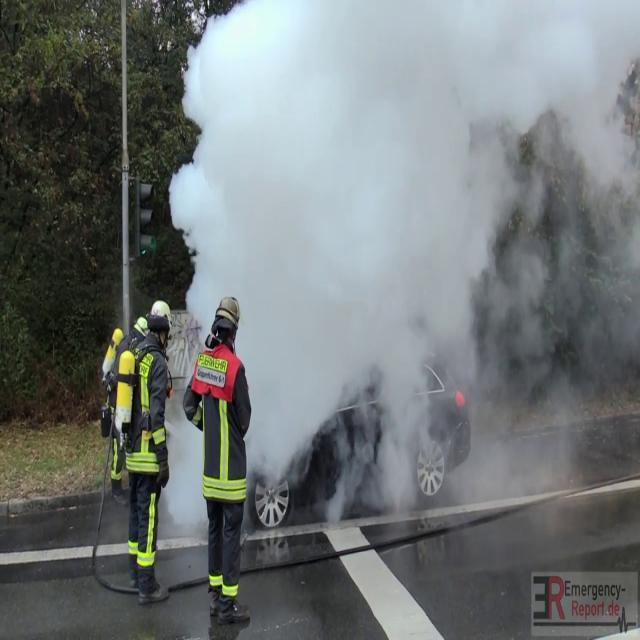Smoke: (162, 0, 640, 498)
